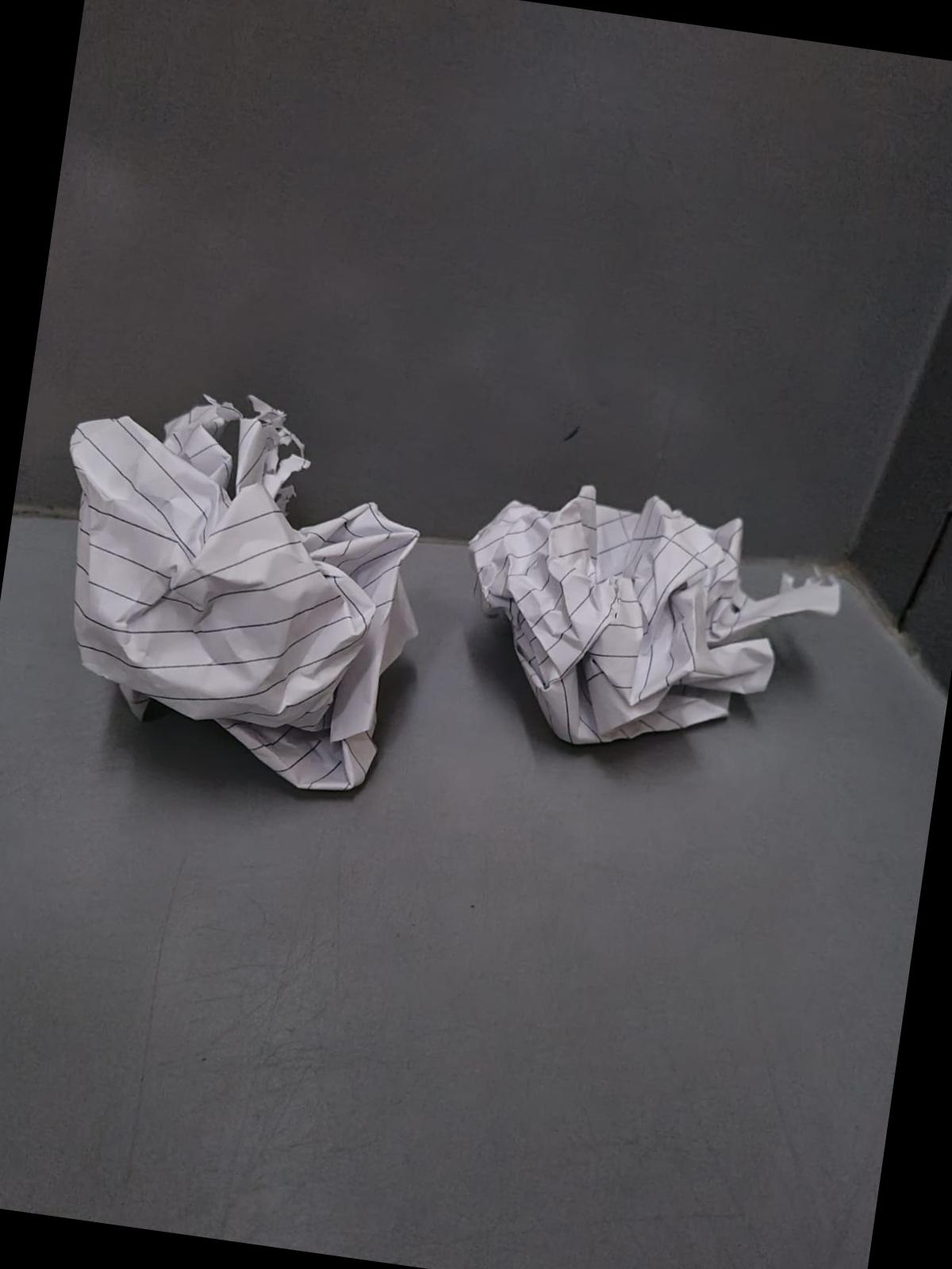Kertas: (70, 397, 418, 790), (469, 485, 838, 745)
